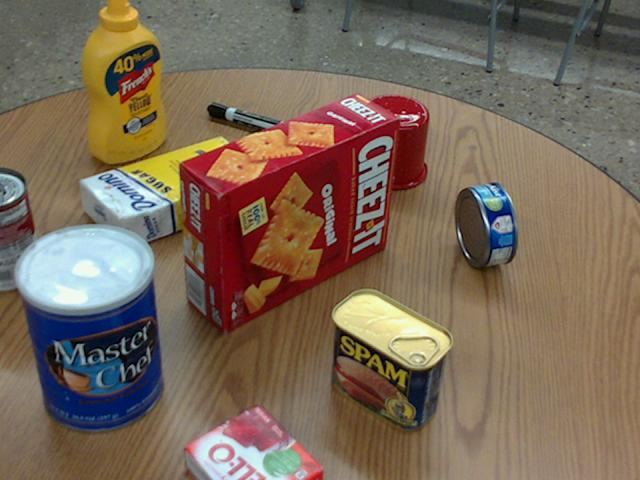cracker_box: (180, 93, 399, 330)
gelatin_box: (181, 404, 322, 479)
large_marker: (208, 101, 296, 138)
master_chef_can: (15, 224, 162, 432)
mug: (348, 95, 429, 190)
mustard_bottle: (83, 0, 165, 162)
potted_meat_can: (330, 288, 451, 430)
sugar_box: (79, 134, 262, 250)
tomato_soup_can: (0, 166, 40, 290)
tuna_fish_can: (454, 182, 517, 266)
